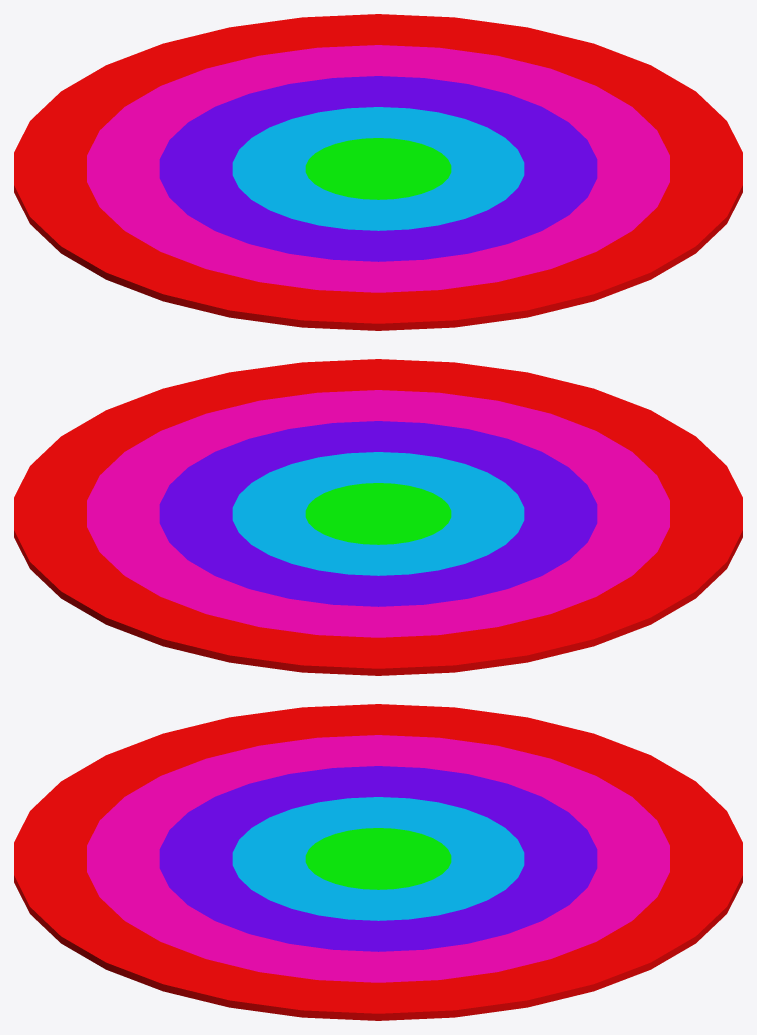
File: hedef.FBX
The picture shows the model from 3 angles, top to bottom: view 1: azimuth 30°, elevation 25°; view 2: azimuth 150°, elevation 25°; view 3: azimuth 270°, elevation 25°; orthographic projection.
Visible parts, largest first — view 1: Object001, Object002, Object003, Object004, Cylinder007; view 2: Object001, Object002, Object003, Object004, Cylinder007; view 3: Object001, Object002, Object003, Object004, Cylinder007.
Boxes of the visible parts, bbox=[...] form: Object001: bbox=[14, 14, 742, 330]; Object002: bbox=[87, 45, 669, 292]; Object003: bbox=[159, 76, 597, 261]; Object004: bbox=[232, 107, 524, 230]; Cylinder007: bbox=[305, 138, 451, 199]; Object001: bbox=[14, 359, 742, 675]; Object002: bbox=[87, 390, 669, 637]; Object003: bbox=[159, 421, 597, 606]; Object004: bbox=[232, 452, 524, 575]; Cylinder007: bbox=[305, 483, 451, 544]; Object001: bbox=[14, 704, 742, 1020]; Object002: bbox=[87, 735, 669, 982]; Object003: bbox=[159, 766, 597, 951]; Object004: bbox=[232, 797, 524, 920]; Cylinder007: bbox=[305, 828, 451, 889].
Size of what is drawn, in the model's own units: 469 by 5.06 by 466.
